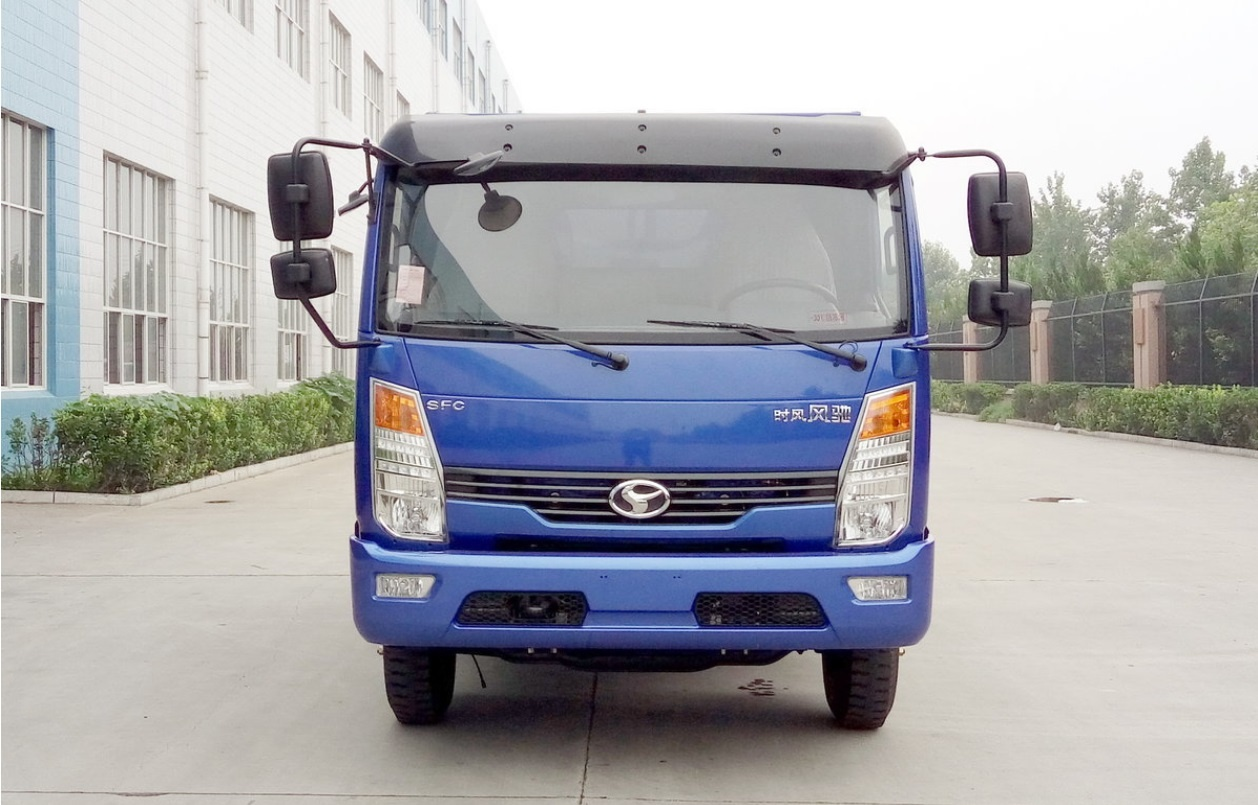truck: (241, 88, 1044, 734)
